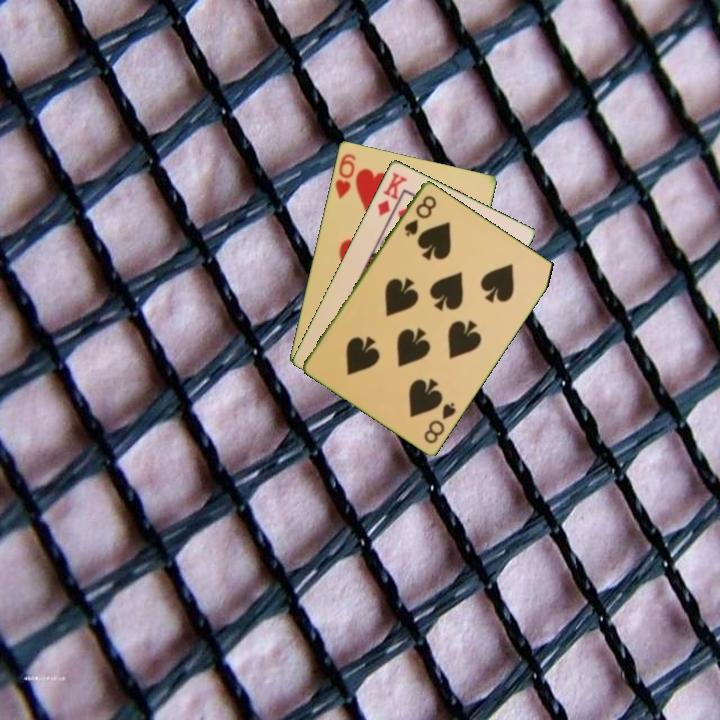6h: (331, 150, 359, 201)
8s: (400, 191, 440, 239), (420, 398, 459, 446)
Kd: (373, 168, 410, 219)
